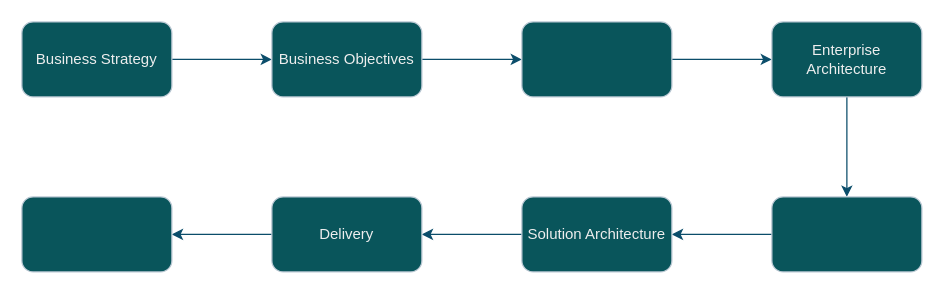
Some shapes in this 944 by 294 pixel diagram are drawn without their labels. Each missing label, with the box of its shape:
Business Operational Model: (521, 21, 672, 97)
Management & Operations: (21, 196, 172, 272)
Requirement Definitions: (771, 196, 922, 272)
